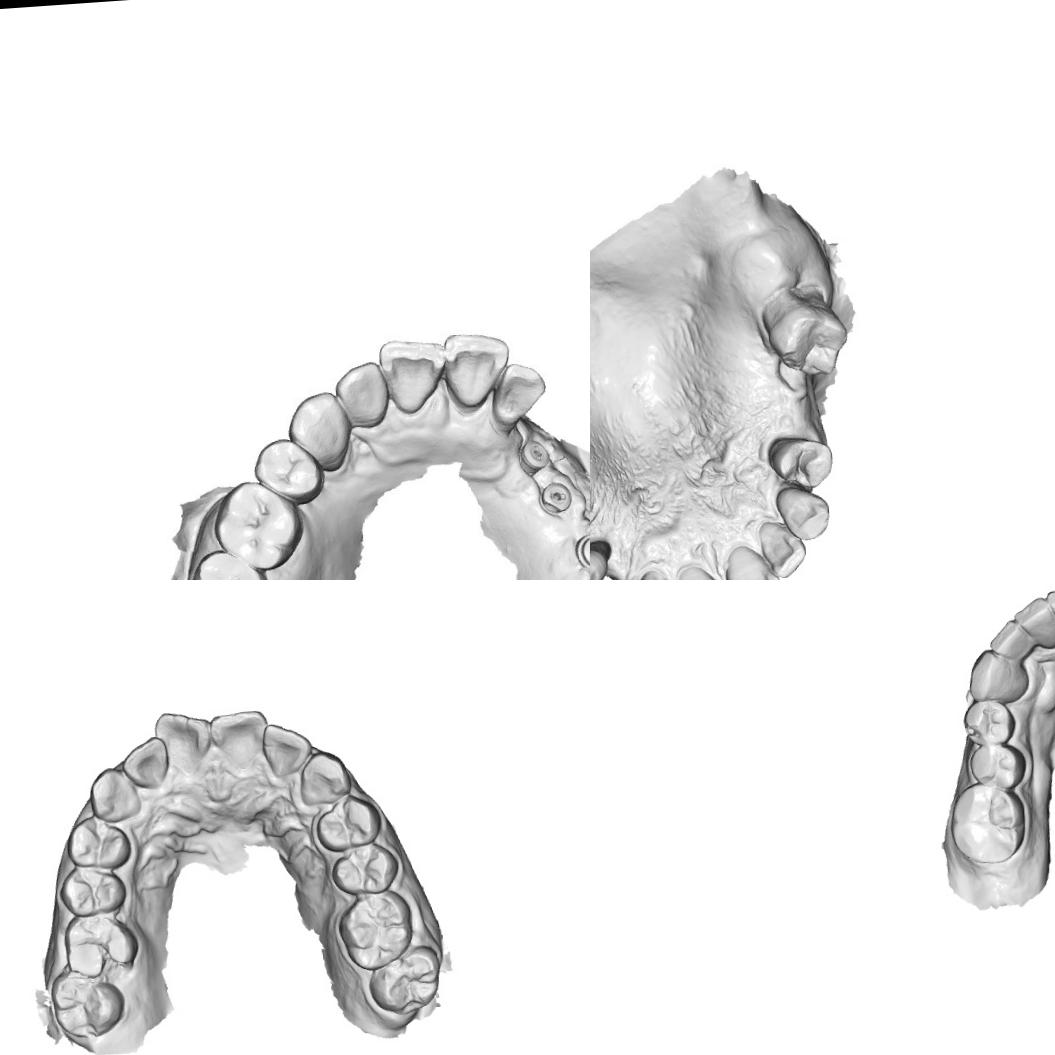canine: (285, 386, 356, 476), (773, 482, 832, 545), (296, 748, 355, 808), (85, 763, 143, 824), (590, 543, 611, 580)
implant_minus: (515, 437, 553, 482), (539, 480, 578, 518), (573, 527, 590, 571)
incisor: (439, 330, 512, 410), (376, 332, 446, 414), (489, 356, 552, 435), (332, 358, 388, 430), (965, 647, 1030, 704), (206, 708, 268, 766), (151, 708, 214, 765), (754, 518, 808, 580), (117, 733, 171, 791), (259, 717, 314, 772), (1008, 592, 1055, 650), (985, 616, 1036, 667), (724, 541, 784, 580), (673, 559, 734, 580), (631, 568, 681, 580), (1045, 581, 1055, 639)
molar: (209, 477, 309, 572), (762, 297, 852, 382), (946, 778, 1028, 868), (334, 886, 416, 970), (46, 962, 127, 1041), (365, 942, 445, 1016), (60, 910, 142, 980), (183, 544, 278, 580)
premolar: (252, 433, 326, 506), (314, 792, 385, 852), (328, 840, 402, 897), (764, 430, 834, 490), (63, 812, 132, 871), (56, 863, 130, 918), (966, 741, 1030, 792), (960, 696, 1016, 748)
